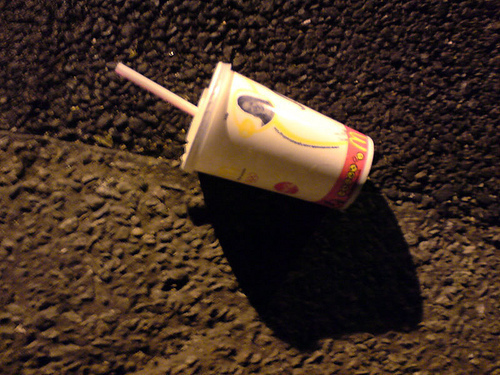litter: (112, 60, 373, 212)
